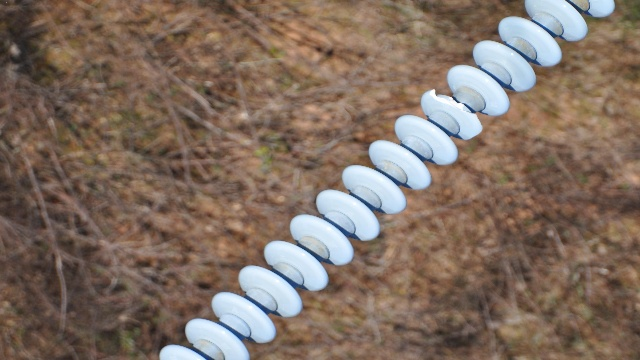broken_local: (427, 84, 479, 121)
insulator_unspecified: (159, 0, 615, 359)
